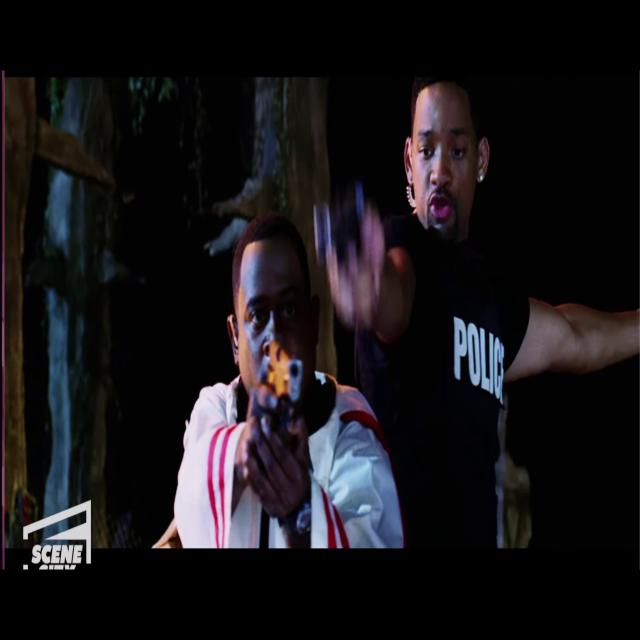weapons: (244, 317, 308, 478)
